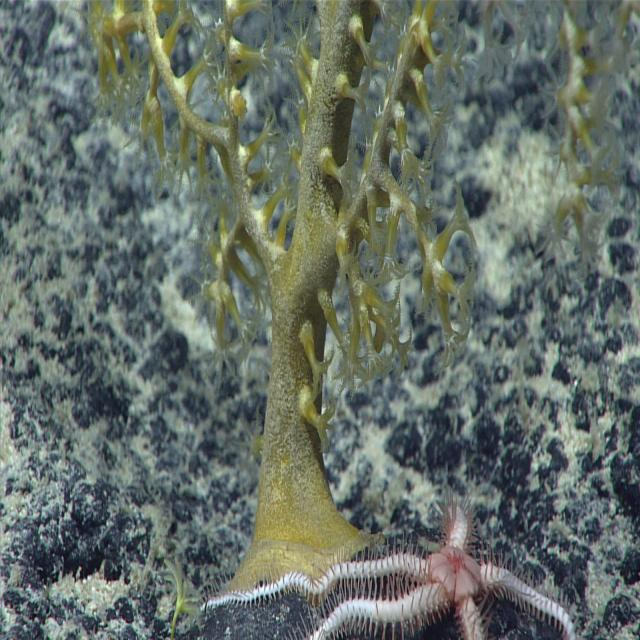Brittle Star: (188, 480, 584, 640)
Not Brittle Star: (73, 0, 630, 612)
